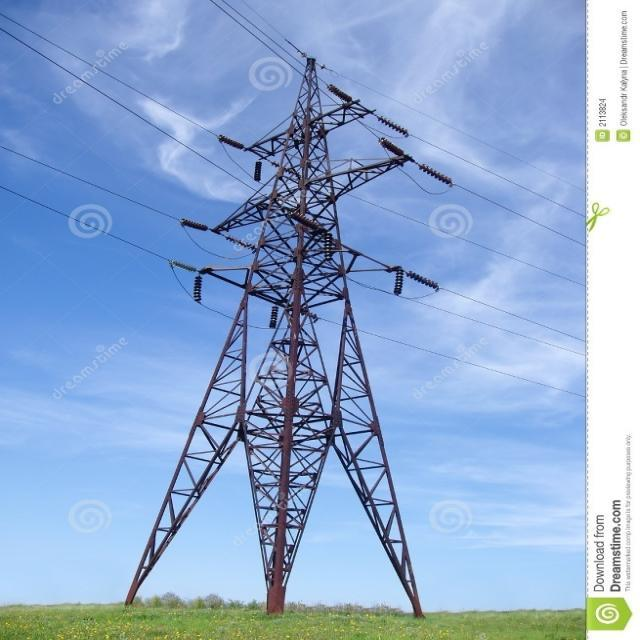non-critical vegetation: (133, 45, 442, 618)
